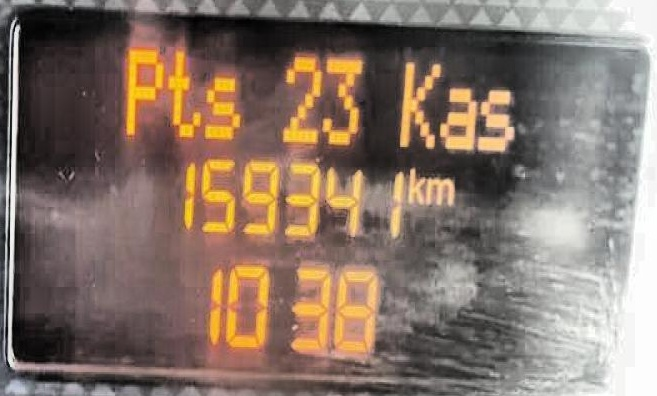0: (223, 263, 268, 347)
1: (206, 268, 221, 345), (387, 170, 402, 238), (181, 161, 195, 230)
2: (280, 53, 321, 143)
3: (287, 263, 331, 352), (319, 55, 362, 143), (282, 162, 319, 237)
4: (322, 165, 362, 236)
5: (200, 158, 235, 232)
8: (331, 267, 377, 352)
9: (240, 158, 279, 233)
X: (397, 58, 441, 148), (122, 46, 162, 135), (165, 47, 201, 137), (437, 86, 476, 150), (202, 73, 239, 138), (476, 86, 513, 150), (425, 175, 452, 205), (406, 165, 423, 205)
